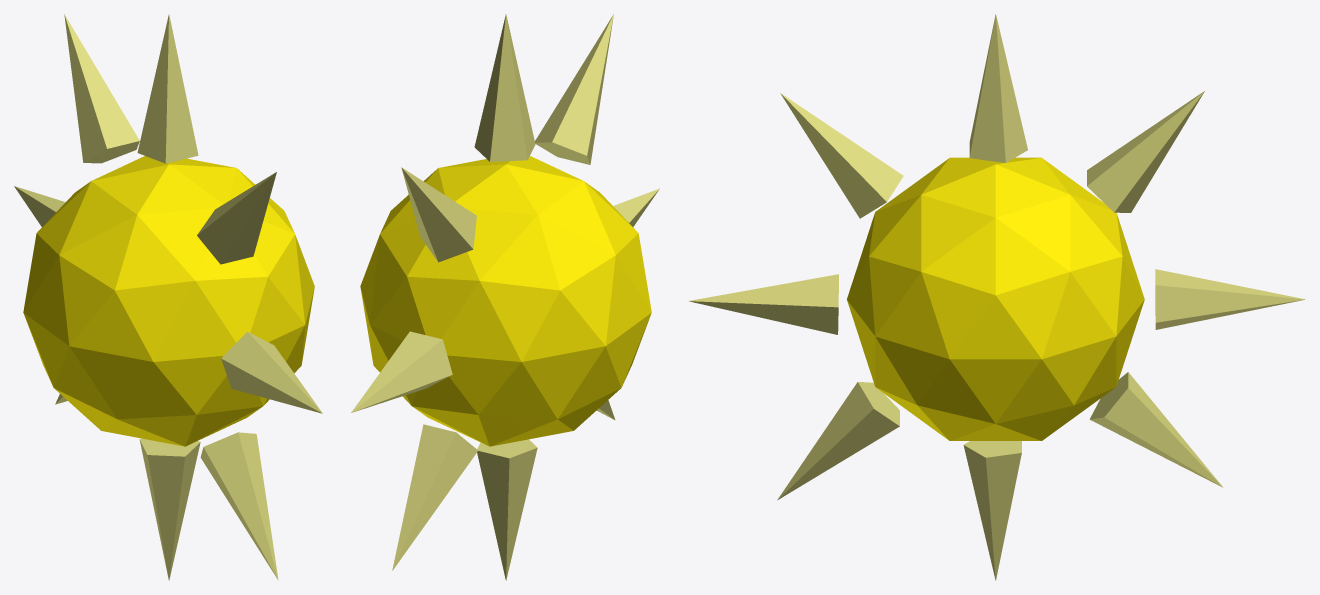
File: Sun.fbx
The picture shows the model from 3 angles, left to right: view 1: azimuth 30°, elevation 25°; view 2: azimuth 150°, elevation 25°; view 3: azimuth 270°, elevation 25°; orthographic projection.
Parts seen in each view (by area): view 1: Sonne_Element; view 2: Sonne_Element; view 3: Sonne_Element.
Boxes of the visible parts, box(x1,y1,x2,y2) form: Sonne_Element: box(14, 14, 322, 580); Sonne_Element: box(351, 14, 659, 580); Sonne_Element: box(688, 14, 1305, 580).
Size of the model in its own units: 190 by 420 by 414.
